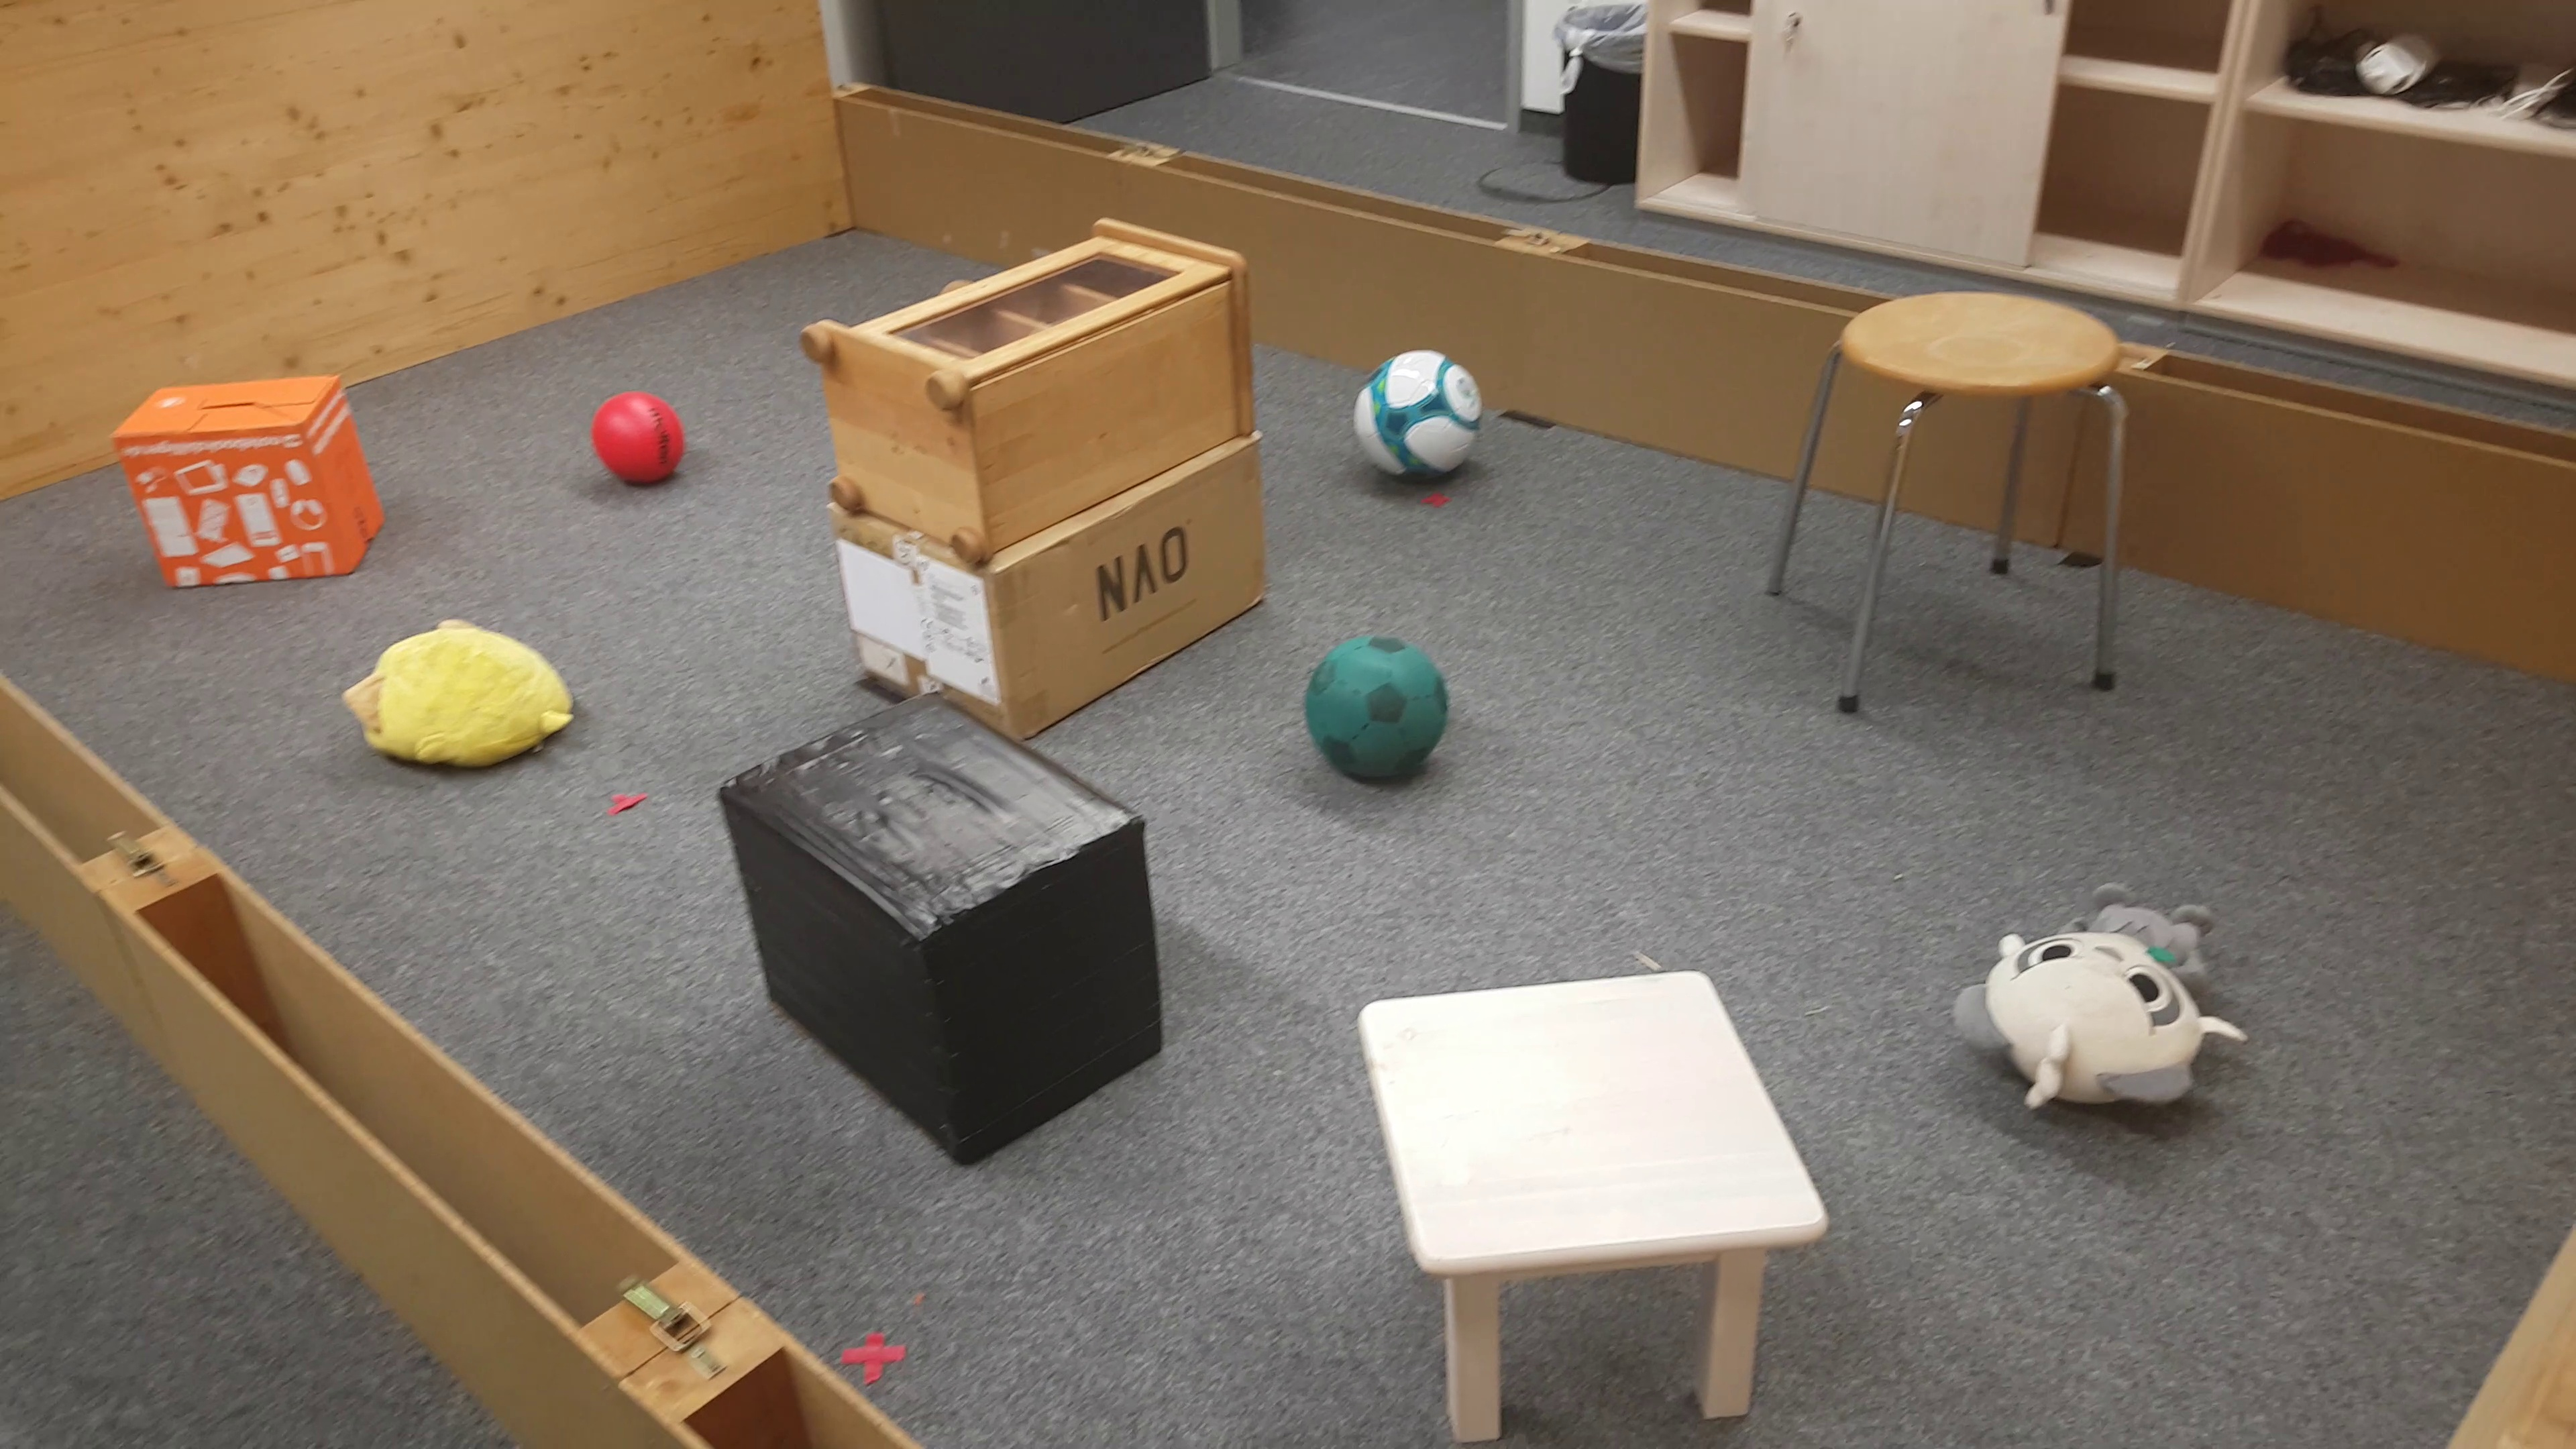grasp: (1946, 883, 2252, 1132), (343, 616, 580, 768)
kick: (1302, 626, 1451, 796), (1355, 338, 1484, 488), (589, 387, 686, 492)
push: (708, 688, 1169, 1168), (108, 364, 395, 593)
